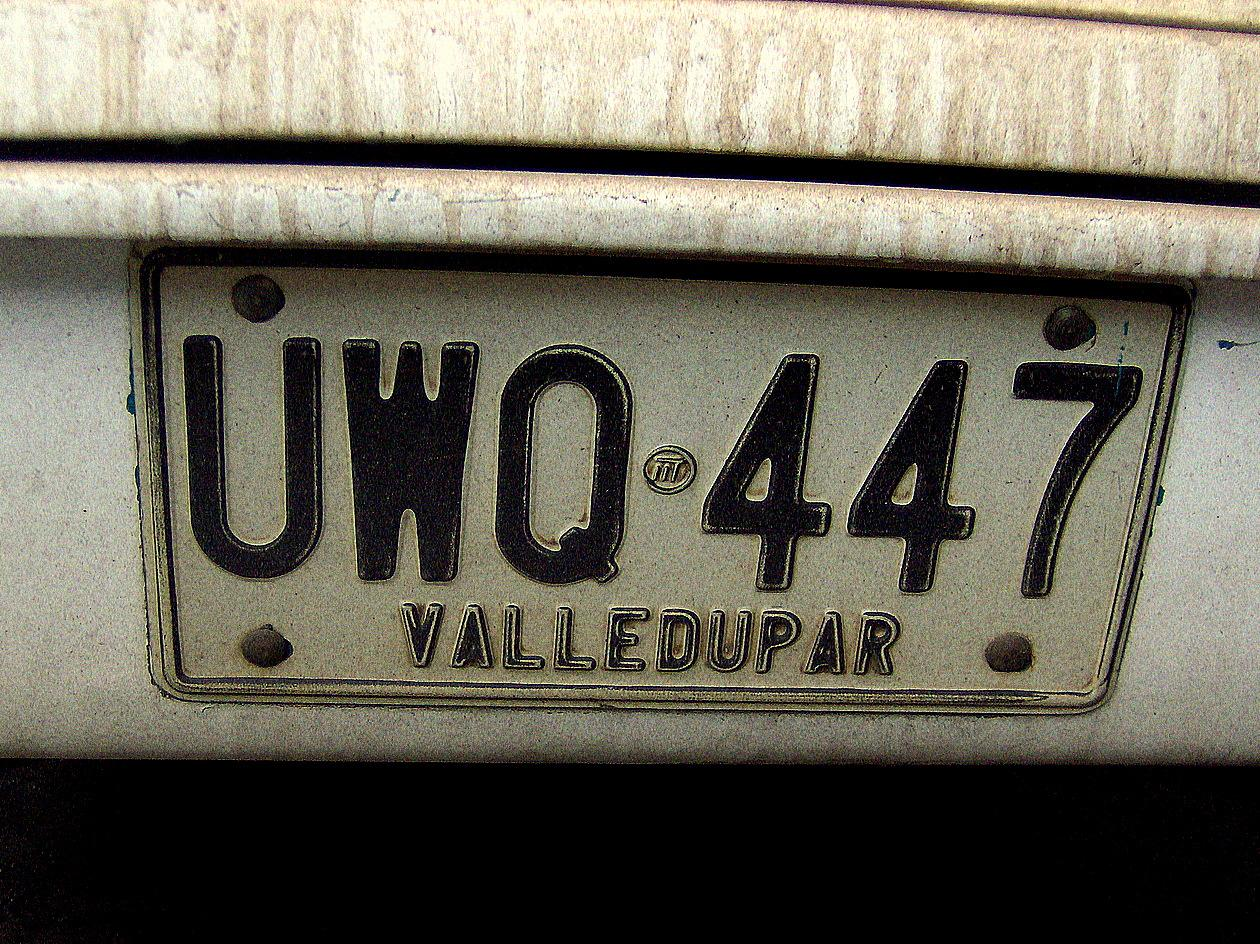placas: (121, 227, 1204, 732)
